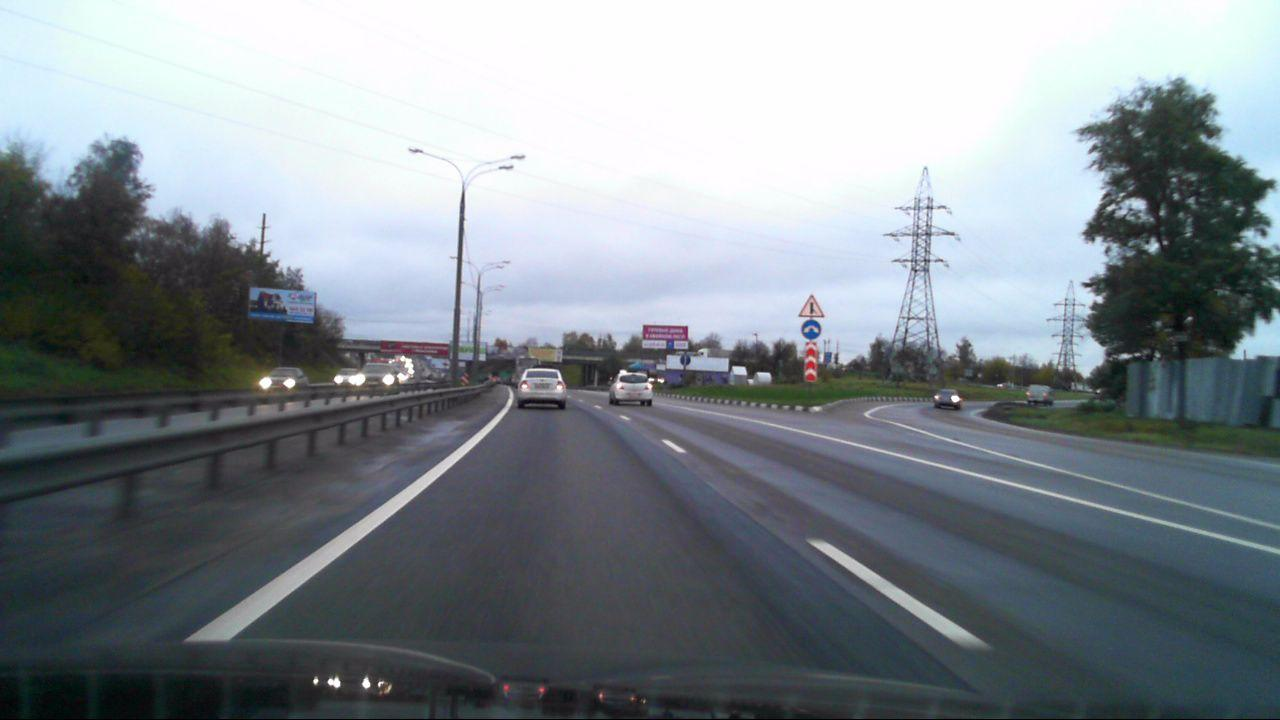2_3_6: (798, 294, 824, 317)
4_1_1: (681, 353, 691, 366)
4_2_3: (801, 319, 823, 340)
8_22_3: (804, 341, 818, 382)
